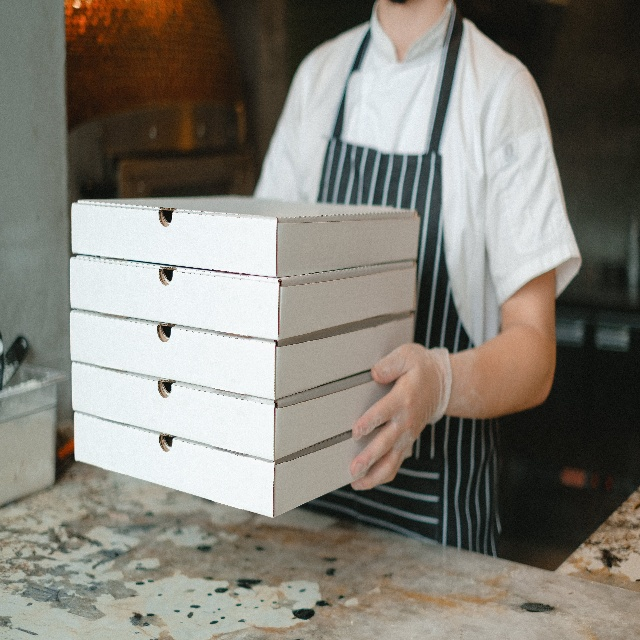Guantes: (350, 337, 453, 496)
Sin_guantes: (350, 340, 441, 491)
